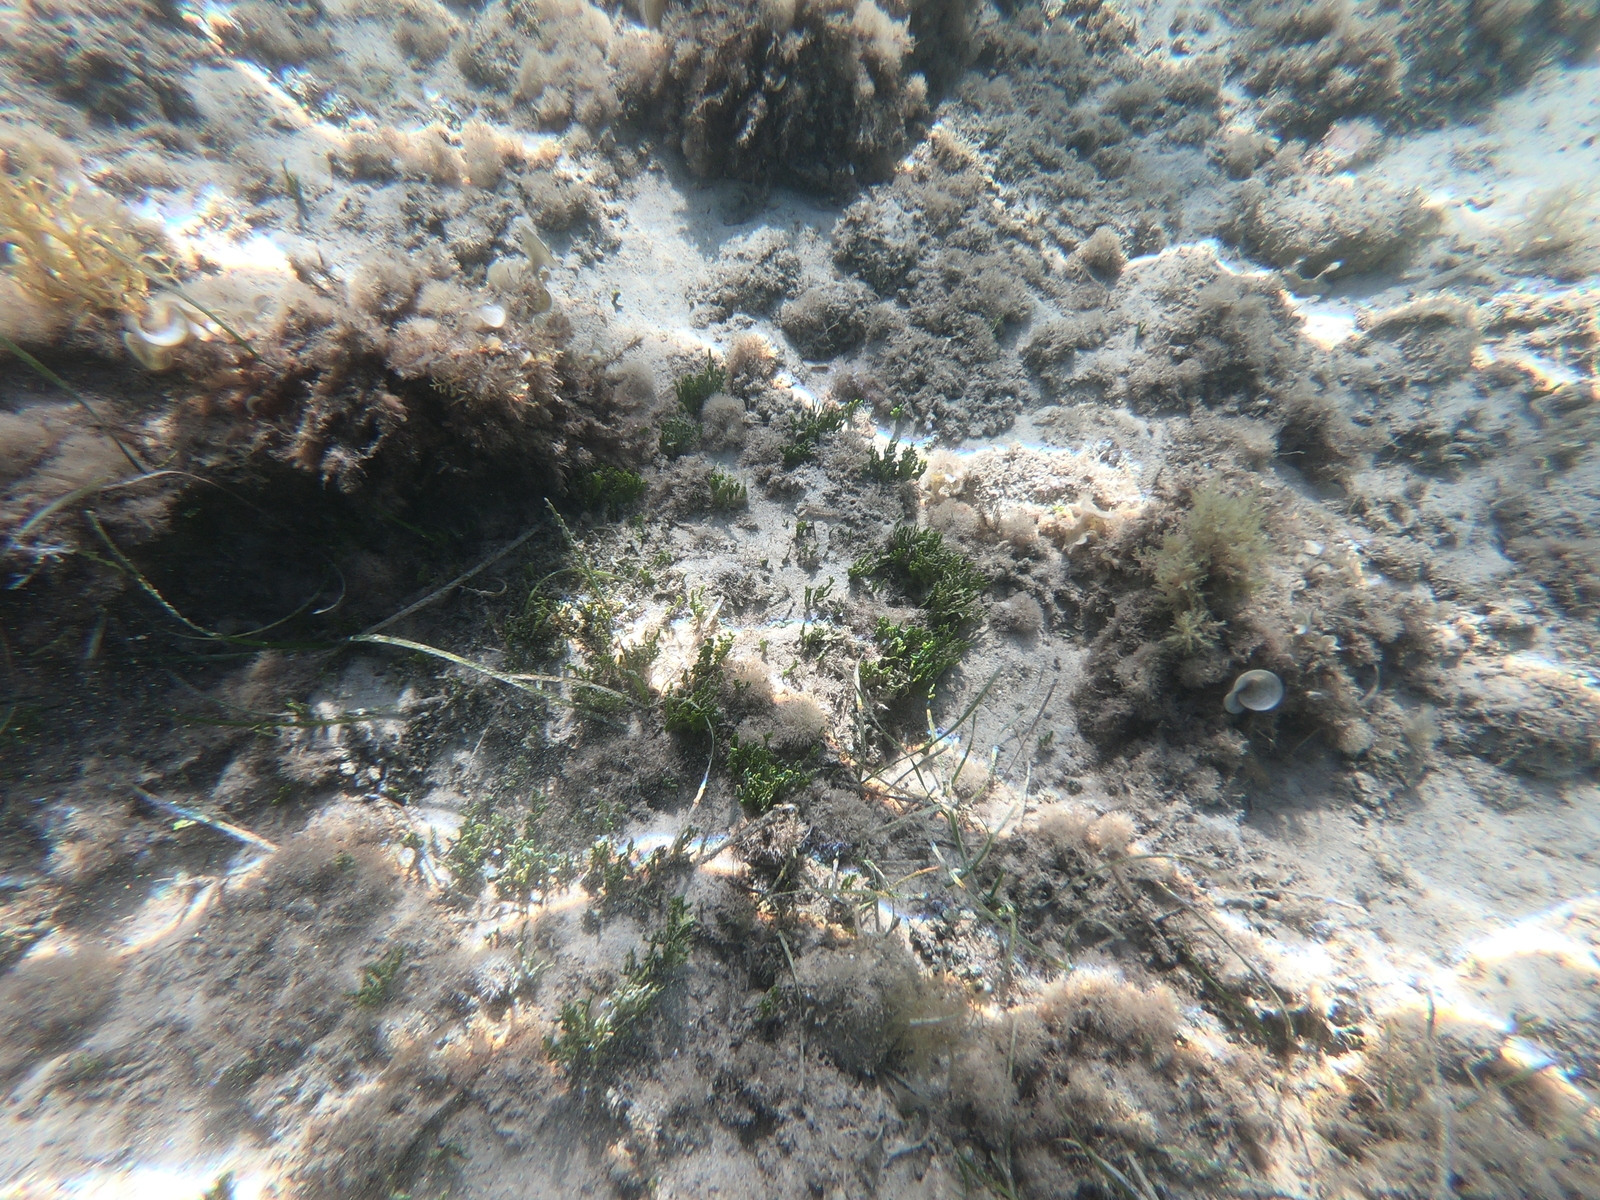halimeda: (931, 550, 998, 642), (542, 989, 615, 1071), (440, 809, 490, 889), (653, 900, 698, 979), (605, 977, 669, 1029), (578, 468, 651, 513), (674, 347, 726, 405), (664, 686, 722, 737), (889, 522, 942, 575), (873, 615, 960, 647), (365, 935, 404, 1001), (501, 834, 546, 884), (916, 645, 963, 684), (658, 417, 695, 461), (889, 644, 917, 700), (709, 469, 748, 507), (527, 596, 562, 638), (867, 437, 897, 484), (733, 776, 779, 805), (752, 747, 785, 787), (858, 655, 894, 686), (693, 637, 716, 684), (529, 947, 554, 989), (617, 644, 664, 667), (525, 788, 544, 843), (729, 734, 752, 779), (847, 555, 876, 586), (504, 613, 527, 652), (677, 824, 700, 861), (780, 440, 811, 468), (797, 621, 830, 648), (602, 855, 625, 892), (818, 405, 847, 434), (758, 984, 780, 1021), (517, 921, 528, 989), (900, 441, 918, 482), (782, 759, 810, 785), (716, 632, 736, 667), (595, 650, 629, 671), (643, 626, 661, 662), (649, 845, 670, 875), (591, 843, 609, 876), (567, 662, 593, 682), (816, 576, 835, 603), (624, 945, 637, 976), (733, 677, 751, 700), (402, 832, 425, 850), (797, 521, 818, 539), (626, 508, 648, 526), (593, 623, 610, 645), (612, 803, 625, 829), (831, 597, 847, 619), (336, 852, 353, 871), (557, 855, 572, 875), (626, 837, 637, 863), (680, 671, 694, 692), (598, 800, 609, 829), (637, 567, 655, 584), (842, 874, 857, 892), (387, 785, 406, 800), (917, 458, 929, 482), (877, 576, 889, 597), (889, 405, 905, 422), (653, 552, 675, 563), (597, 606, 614, 621), (804, 424, 821, 437), (803, 585, 813, 609), (847, 400, 859, 418), (580, 599, 595, 614), (784, 542, 792, 567), (427, 824, 437, 846), (694, 605, 708, 620), (811, 742, 819, 766), (762, 730, 775, 744), (842, 531, 850, 548), (689, 591, 695, 615), (863, 461, 871, 480), (529, 725, 539, 739), (811, 398, 820, 413), (760, 642, 770, 654), (698, 584, 707, 597), (612, 291, 621, 305), (800, 408, 808, 424), (810, 766, 821, 776), (808, 545, 815, 558), (563, 605, 571, 619), (697, 421, 703, 437), (787, 413, 797, 424), (574, 855, 583, 863), (785, 659, 789, 679), (796, 545, 800, 563), (803, 545, 808, 558), (808, 407, 813, 421), (823, 551, 828, 563), (829, 527, 833, 539)
